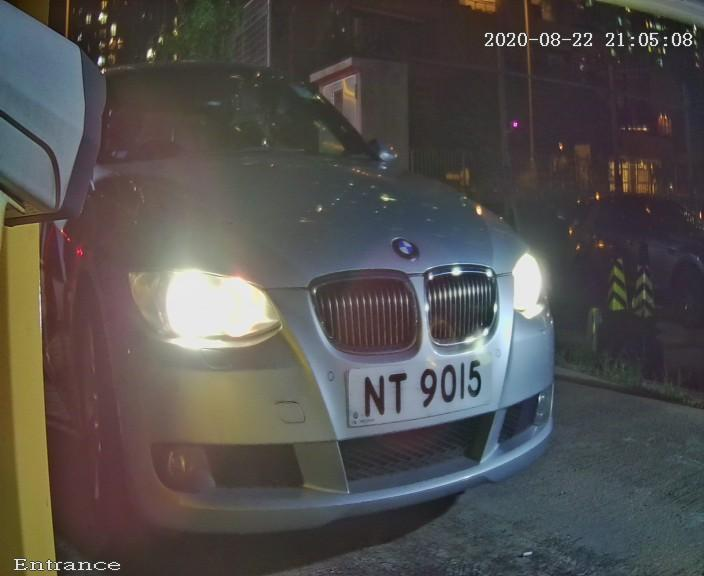Car: (13, 11, 613, 569)
License Plate: (324, 329, 516, 447)
